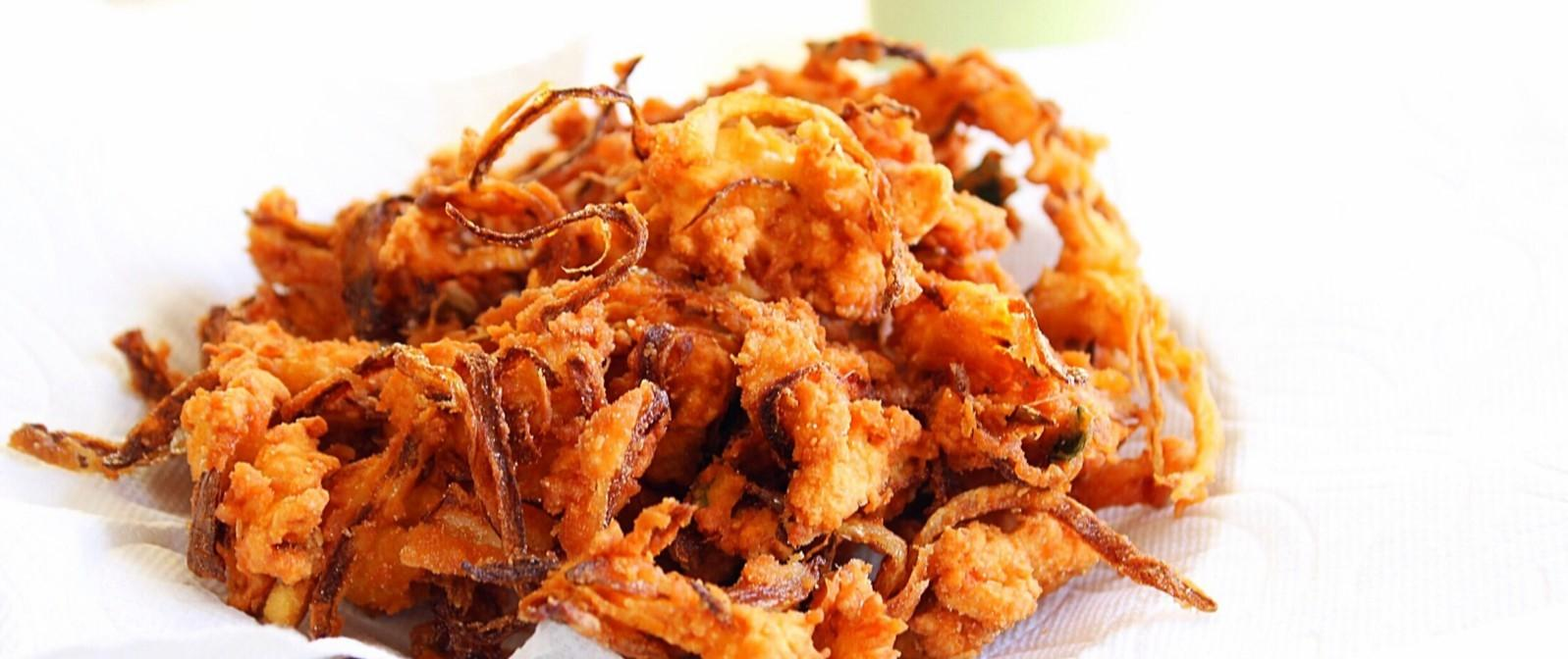OnionPakoda: (0, 29, 1214, 659)
